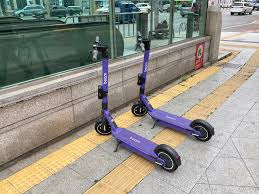guide_blocks: (54, 138, 96, 170), (99, 165, 144, 193), (8, 163, 52, 189), (157, 82, 182, 102), (222, 43, 259, 48)
kick_board: (88, 37, 181, 172), (132, 32, 213, 141)
kick_body: (115, 131, 154, 153), (153, 109, 189, 127)
kick_handler: (92, 36, 109, 60), (136, 31, 151, 51)
kick_neck: (100, 56, 109, 115), (139, 53, 150, 97)
kick_wheel: (157, 145, 179, 172), (193, 119, 213, 141), (96, 118, 111, 135), (131, 103, 147, 116)
